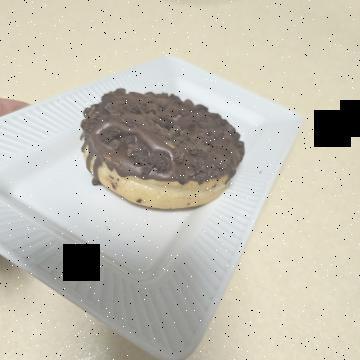doughnut: (84, 104, 237, 293)
